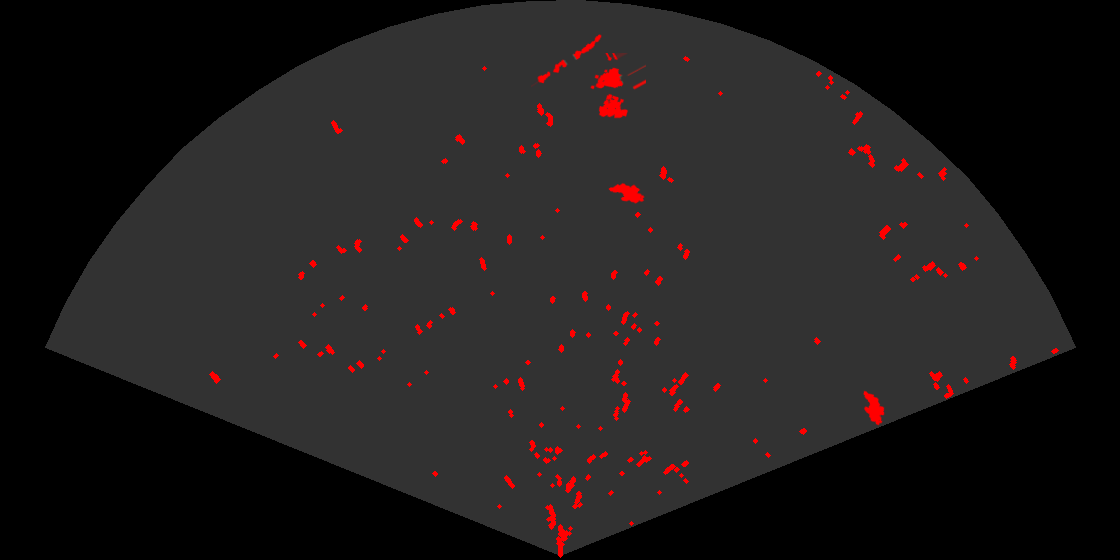AUV: (607, 181, 646, 205), (862, 389, 886, 427)
cage: (589, 53, 646, 120)
chain: (531, 33, 603, 89)
